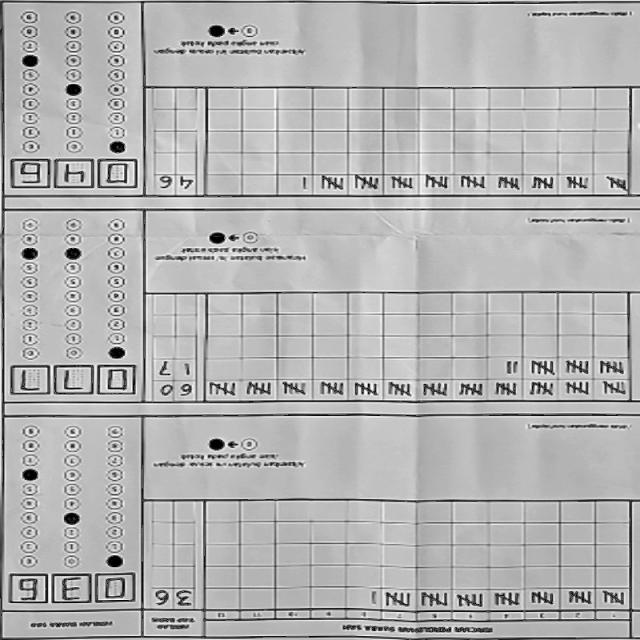Suara: (3, 570, 140, 608), (7, 364, 144, 402), (6, 156, 142, 194)
